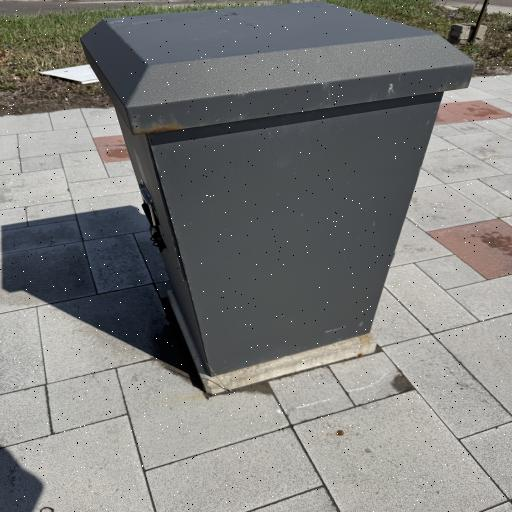Electrical Box: (79, 4, 471, 376)
